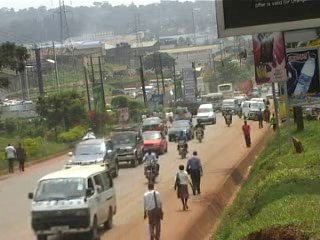Car: (64, 136, 121, 181), (107, 124, 146, 169), (140, 128, 170, 158), (164, 118, 196, 142), (140, 116, 167, 136), (194, 104, 219, 124), (174, 104, 195, 124)
Motorcycle: (143, 146, 160, 189), (175, 130, 190, 159), (193, 118, 206, 143), (223, 104, 235, 127), (83, 127, 99, 140), (234, 102, 246, 118), (164, 108, 176, 123)
